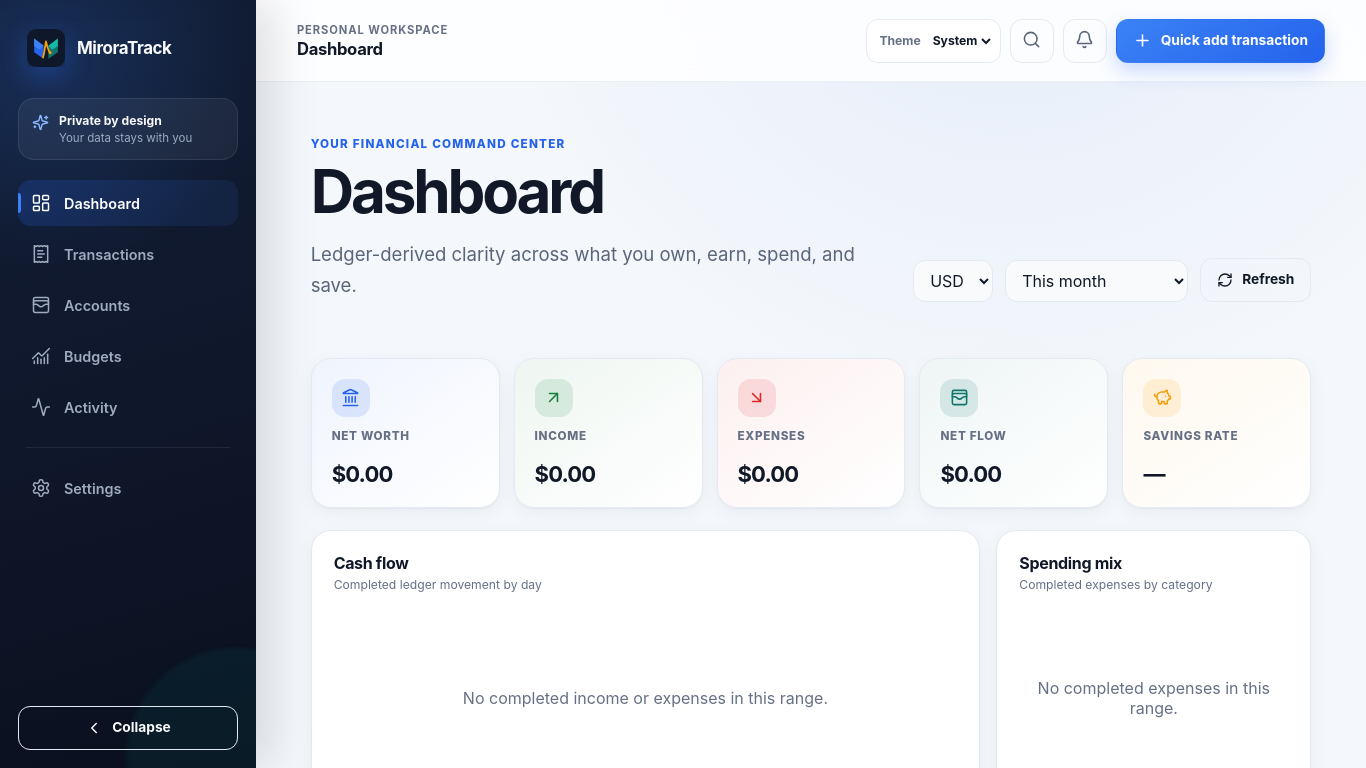
Test: premium application shell › persists sidebar collapse and exposes its expanded state
Click the button with aria-label "Collapse sidebar" at (128, 728), box [18, 706, 238, 750]
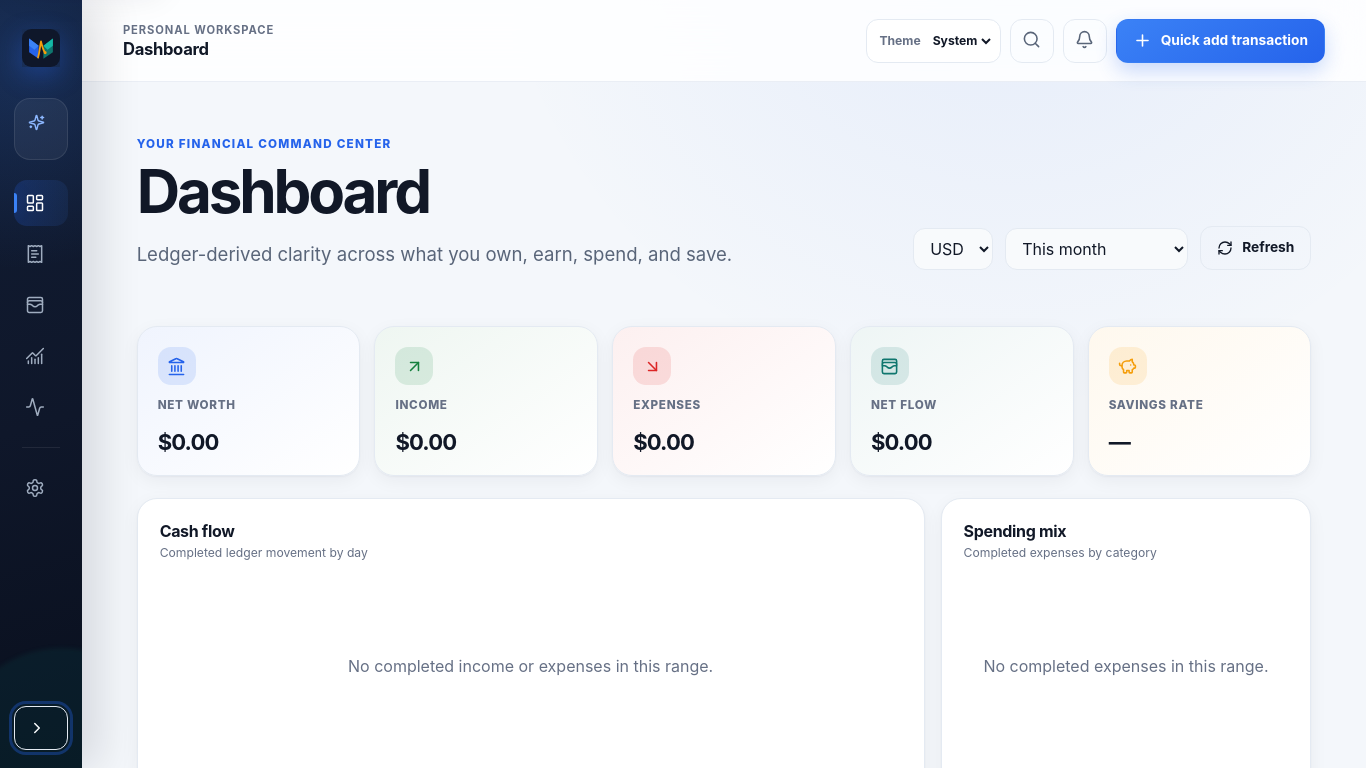
Expected: the link named "MiroraTrack home" is shown, [22, 29, 60, 67]
Now the button named "Expand sidebar" is collapsed, box [14, 706, 68, 750]
Now the link "MiroraTrack" is gone
